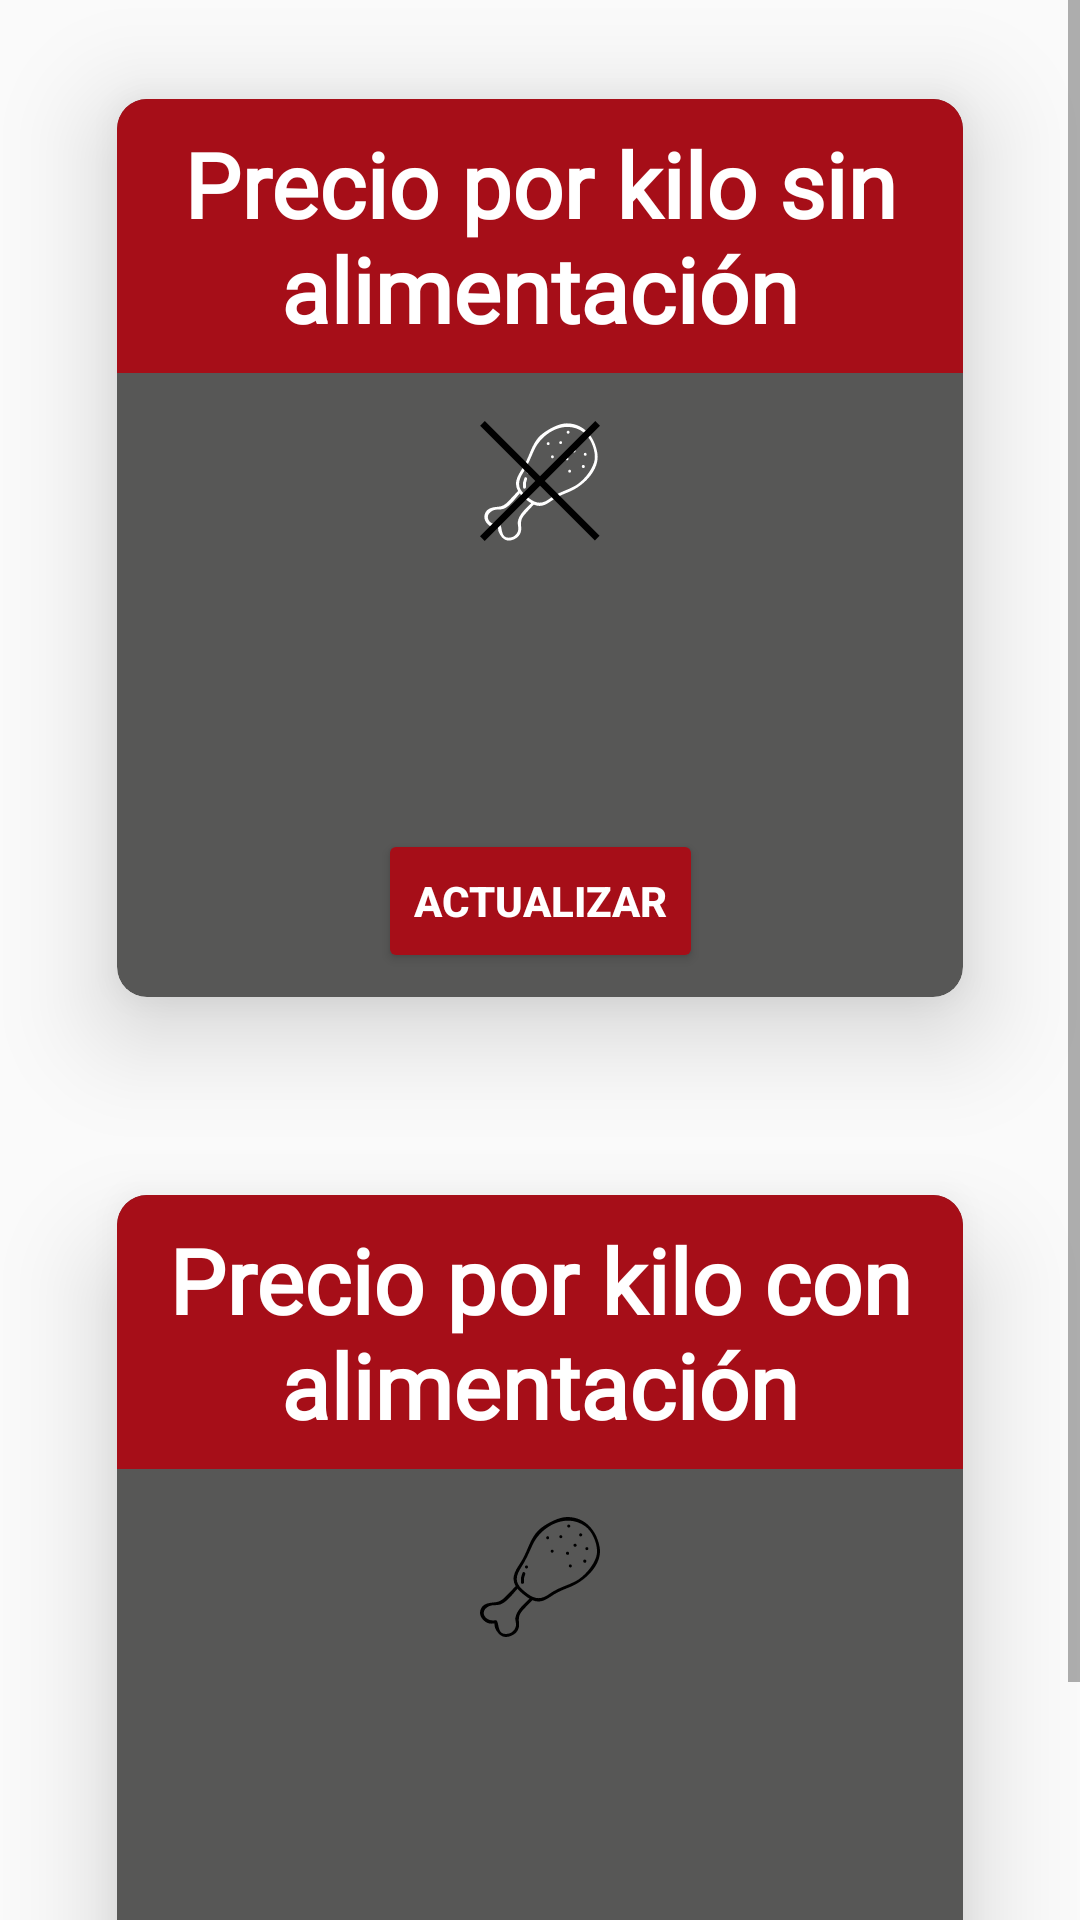

Icons on this 1080w x 1920h Android screen, each with its box as (left=x1, top=y1, right=x2, bottom=y2):
alimentacion: (left=480, top=1517, right=600, bottom=1637)
no alimentacion: (left=480, top=421, right=600, bottom=541)
